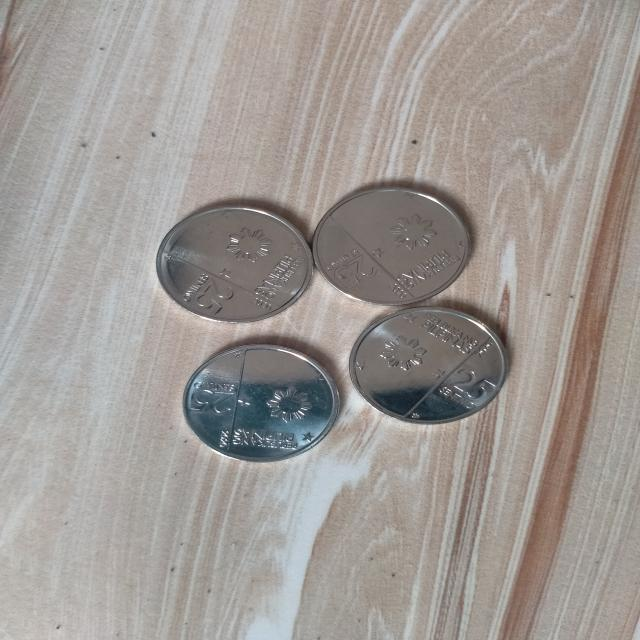25Cent_New_Front: (319, 213, 481, 304), (177, 378, 316, 454)
